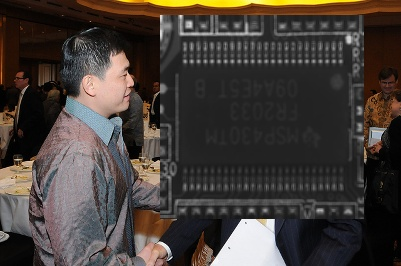PIN: (177, 160, 348, 194), (177, 36, 346, 67)
wineglass: (138, 152, 147, 173), (13, 154, 22, 174), (140, 159, 150, 175), (151, 123, 156, 135)
